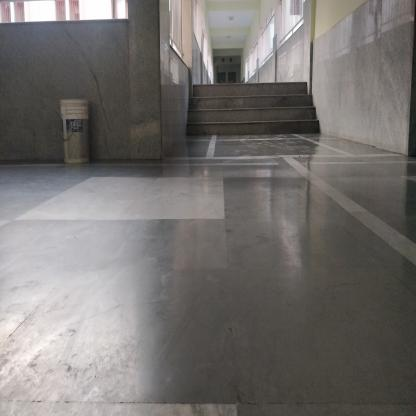stairs: (195, 80, 309, 142)
